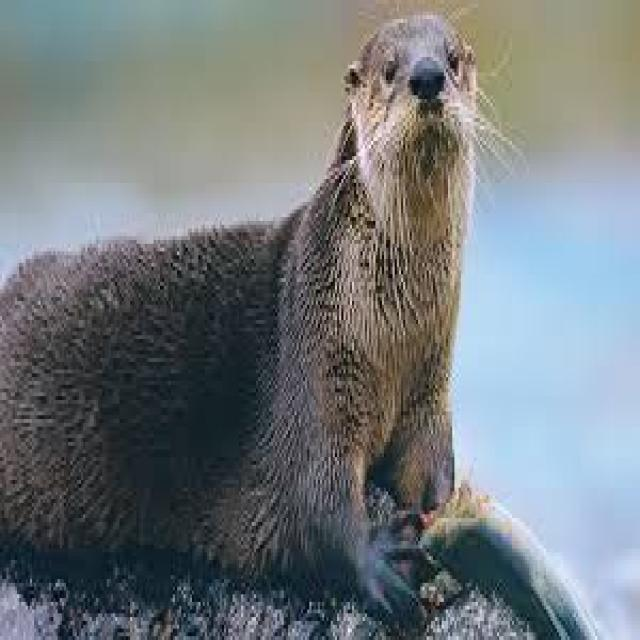Otter: (0, 16, 478, 587)
